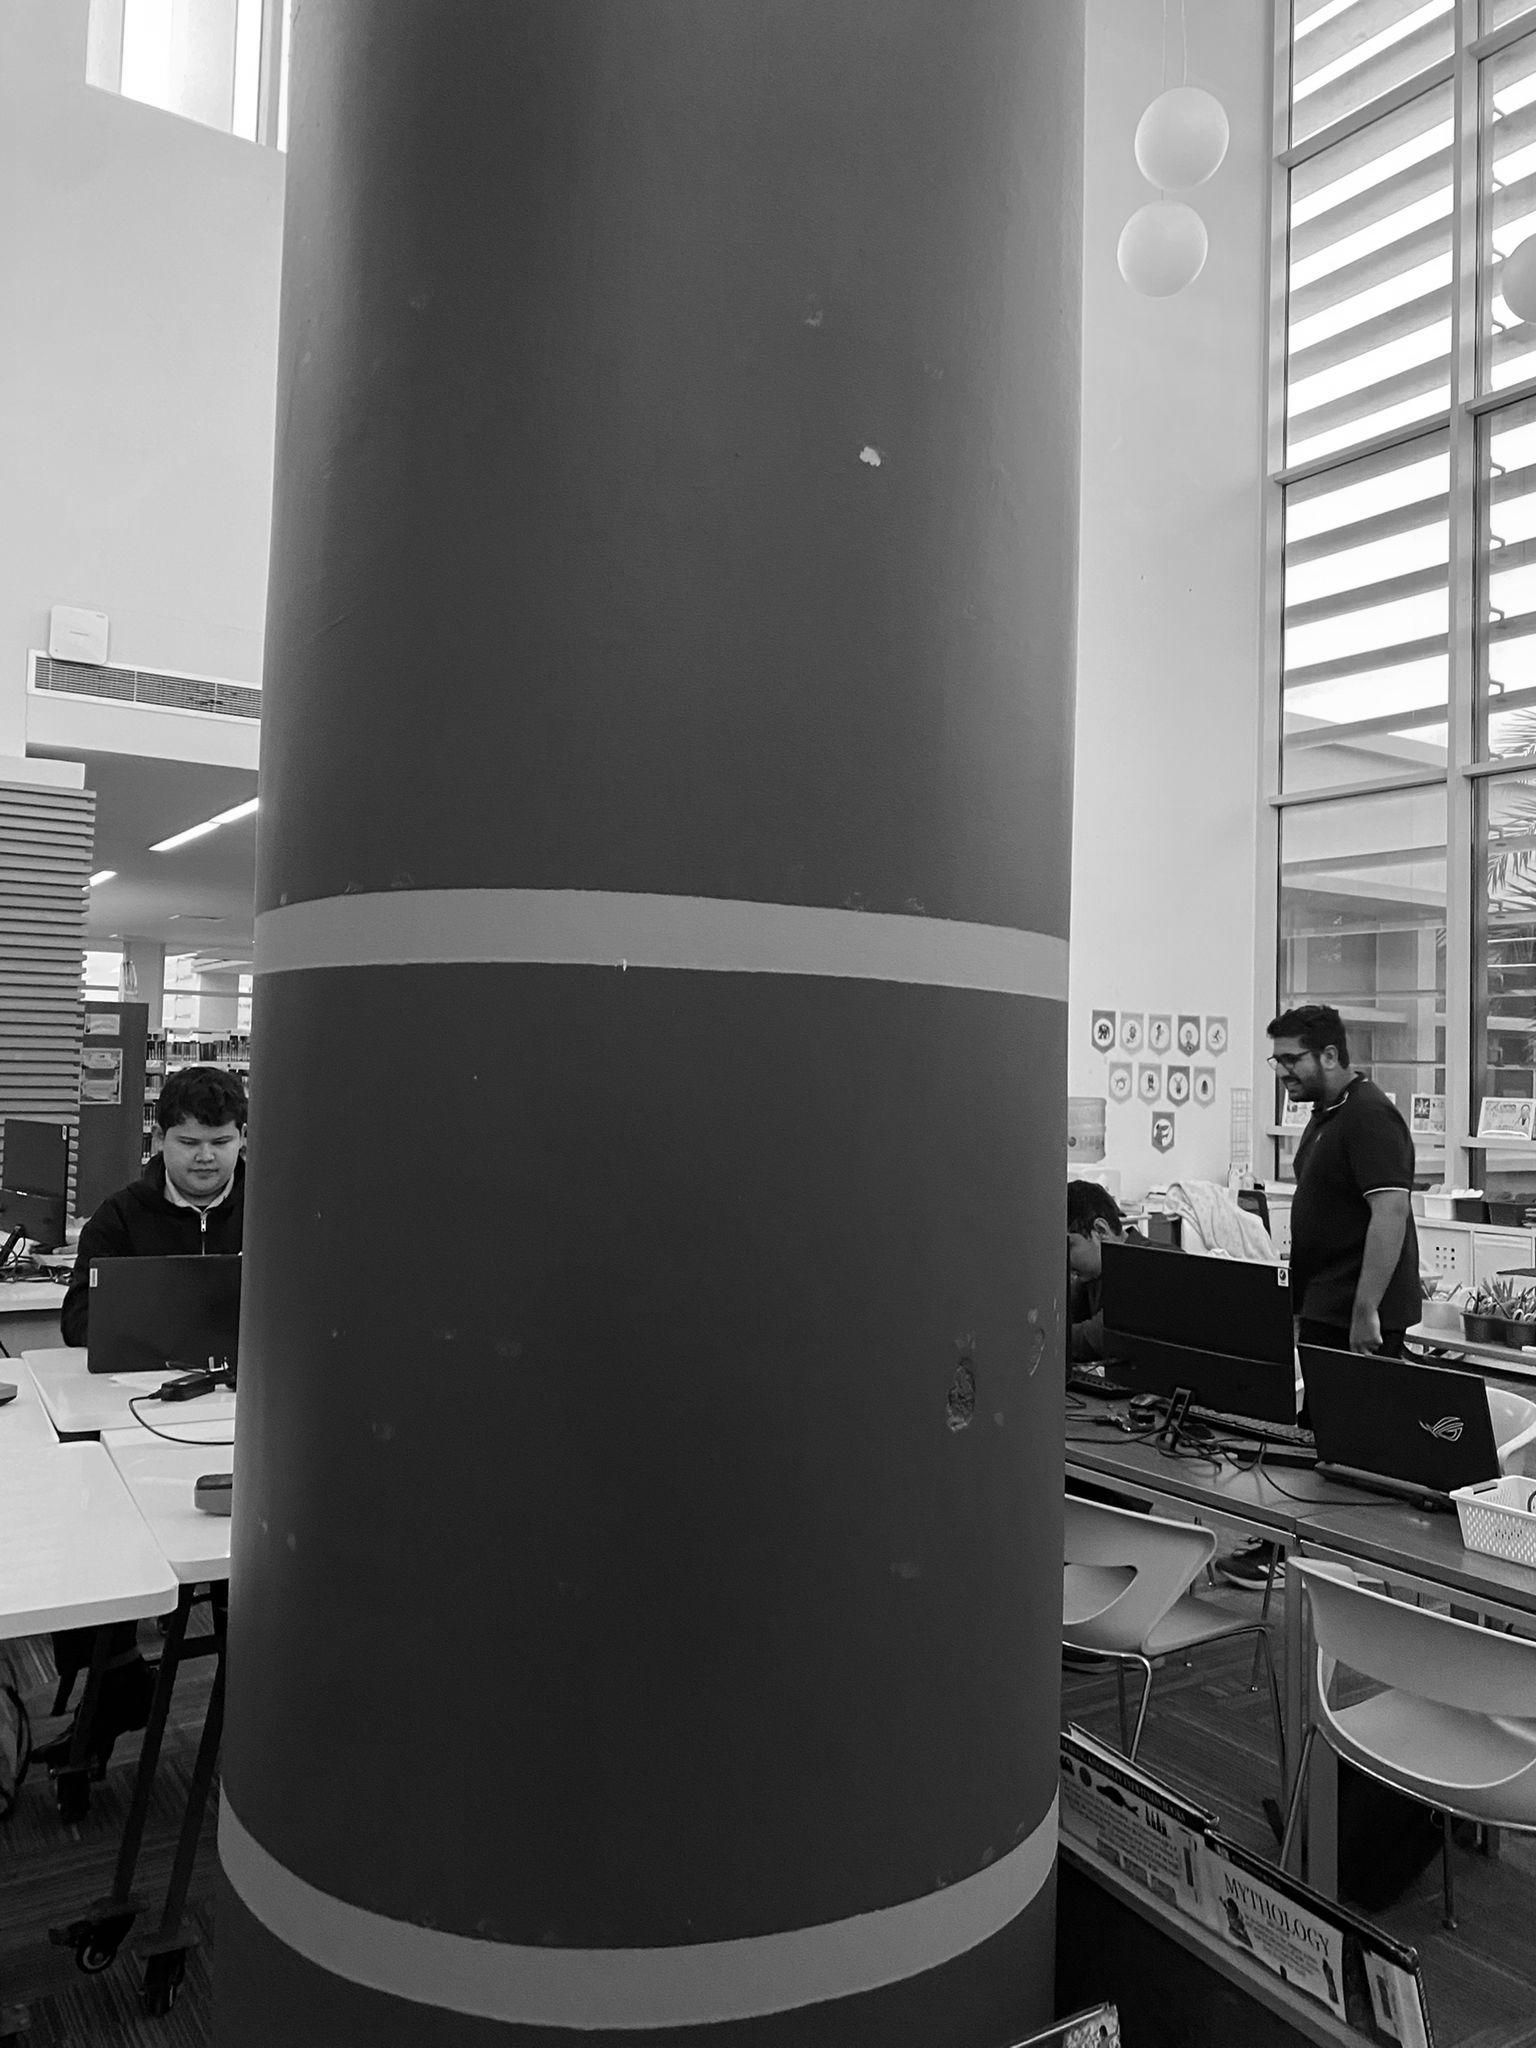Chair: (1283, 1561, 1534, 1863)
Pillar: (215, 0, 1083, 2046)
